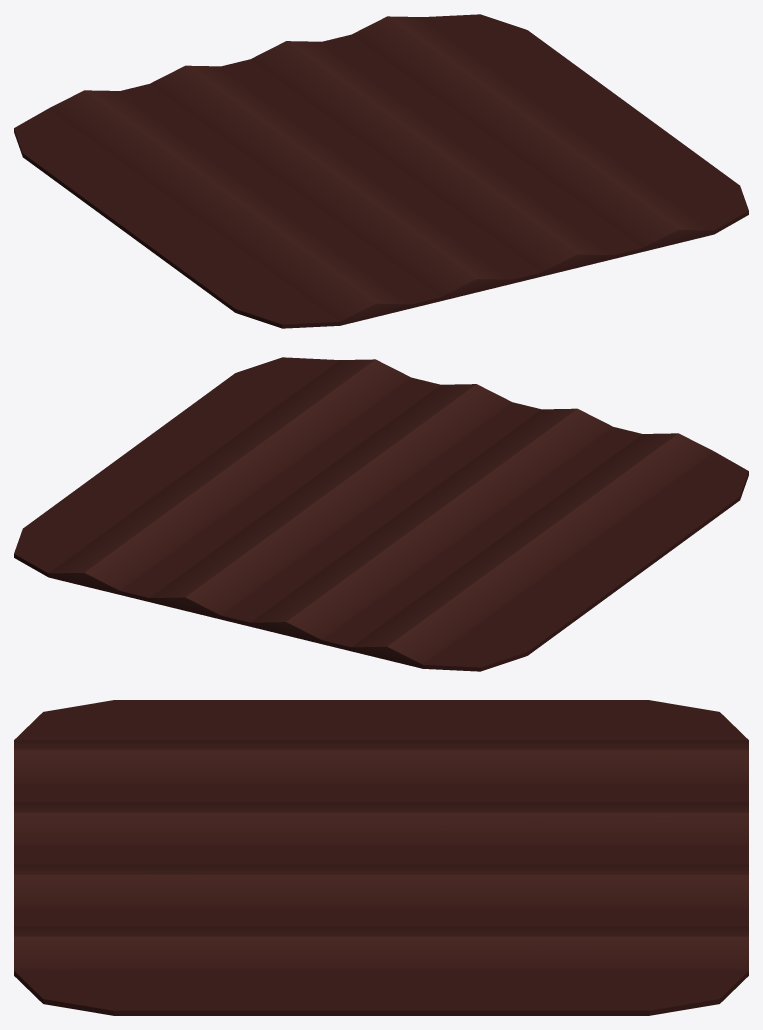
The model's file is Tilled_Dirt.fbx.
The picture shows the model from 3 angles, top to bottom: view 1: azimuth 30°, elevation 25°; view 2: azimuth 150°, elevation 25°; view 3: azimuth 270°, elevation 25°; orthographic projection. The views are drawn at different scales.
Visible parts, largest first — view 1: Plane.006; view 2: Plane.006; view 3: Plane.006.
Part boxes in pixels (x1,y1,x2,y2): Plane.006: (14,14,748,328); Plane.006: (14,357,748,671); Plane.006: (14,700,748,1015).
Bounding box in the file's own units: 400 × 10.18 × 400.
